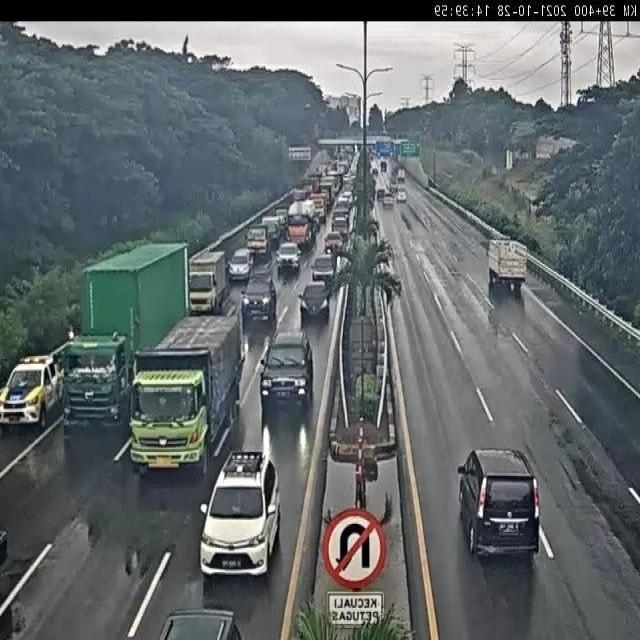Car: (199, 436, 281, 578), (455, 448, 538, 559), (259, 330, 314, 421), (241, 268, 278, 326), (298, 278, 331, 322), (276, 241, 302, 275), (228, 248, 254, 281), (311, 254, 336, 285), (323, 230, 344, 255), (331, 214, 349, 240), (338, 190, 354, 207), (383, 194, 394, 208), (396, 189, 406, 203)
Truck: (63, 245, 188, 441), (136, 312, 242, 475), (57, 332, 132, 438), (0, 354, 64, 431), (187, 250, 229, 317), (487, 237, 527, 300), (287, 200, 318, 247), (246, 226, 269, 258), (261, 215, 283, 248), (308, 191, 328, 223)
